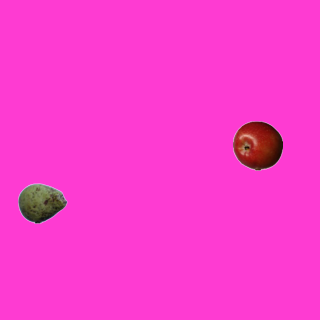Apple Braeburn: (232, 120, 282, 170)
Pear Stone: (17, 178, 67, 228)
